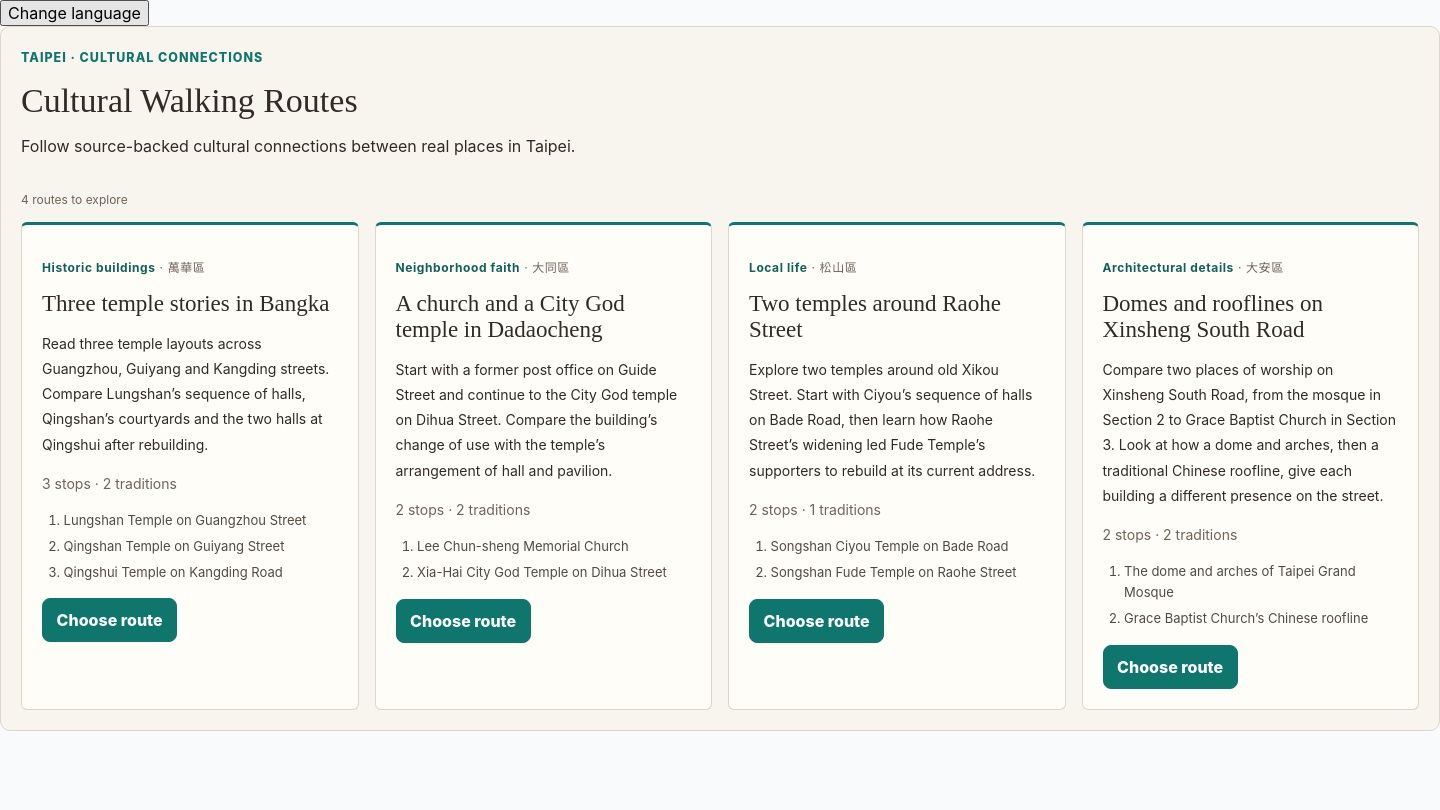
Test: walking route browsing and stop selection › offers reviewed routes, selects their first stop, and displays real evidence and walking navigation
Expected: the heading "Cultural Walking Routes" is shown, [21,82,358,119]
Click the button "Choose route" below "Qingshui Temple on Kangding Road" at (110, 620), box [42,598,177,642]
(page scrolled)
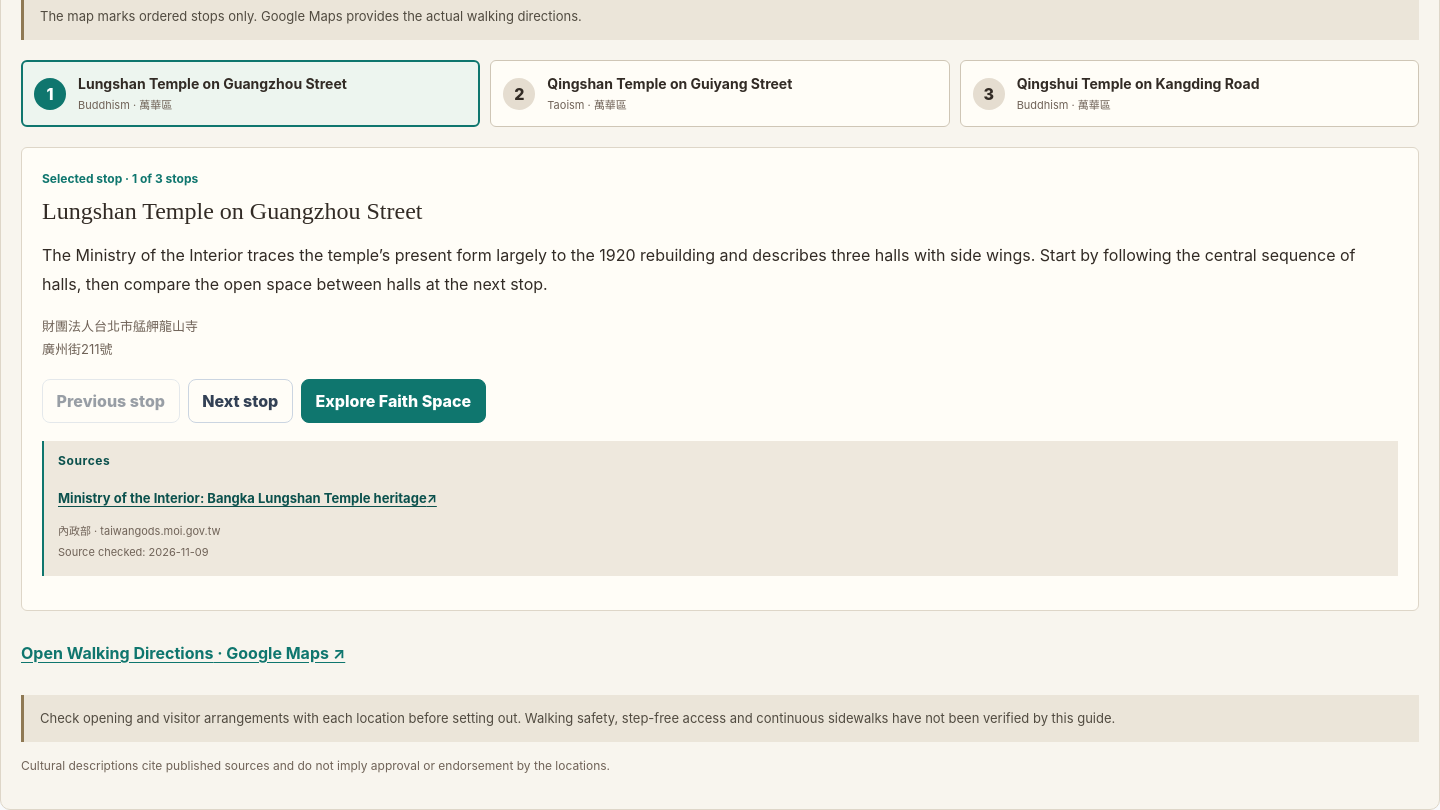
Expected: the text "The Ministry of the Interior traces the temple’s present form largely to the 1920 rebuilding and describes three halls w" is shown, [42,245,1356,294]
Expected: the link "Ministry of the Interior: Bangka Lungshan Temple heritage ↗" is shown, [58,490,437,506]
Expected: the button "Previous stop" is disabled, [42,379,180,423]
